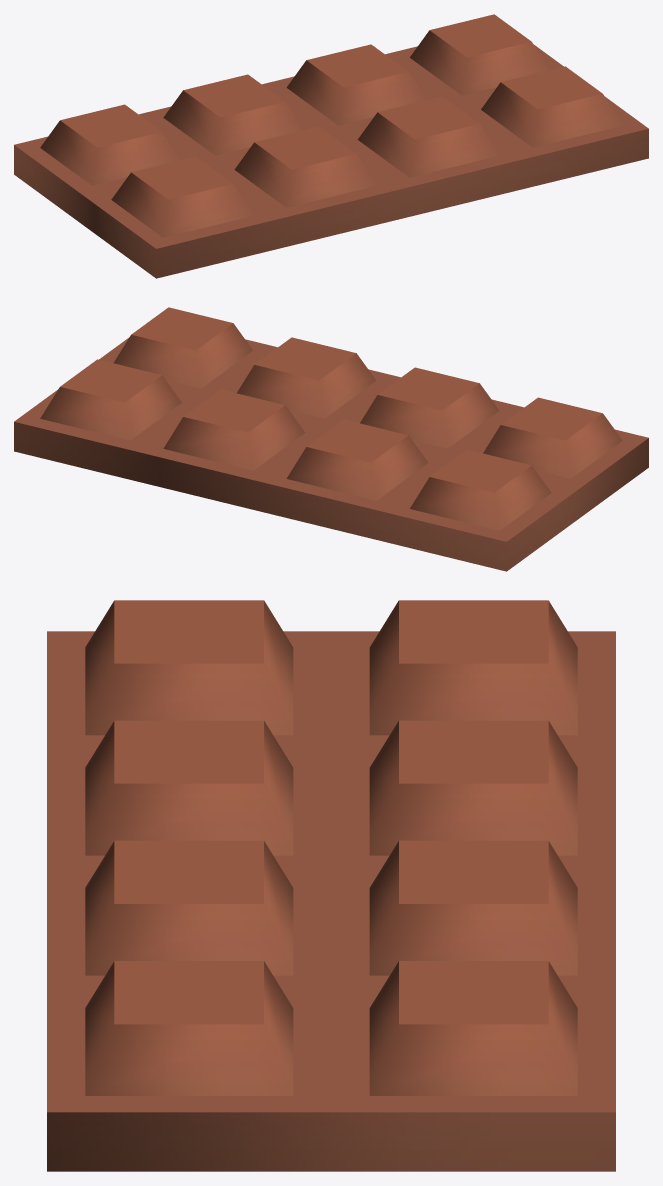
Rendered from chocolate.glb.
The picture shows the model from 3 angles, top to bottom: view 1: azimuth 30°, elevation 25°; view 2: azimuth 150°, elevation 25°; view 3: azimuth 270°, elevation 25°; orthographic projection. The views are drawn at different scales.
Parts seen in each view (by area): view 1: chocolate; view 2: chocolate; view 3: chocolate.
Part boxes in pixels (left/top/right/bottom): chocolate: left=14, top=14, right=648, bottom=278; chocolate: left=14, top=307, right=648, bottom=571; chocolate: left=47, top=600, right=615, bottom=1171.
Size of the model in its own units: 0.2924 by 0.0337 by 0.1462.
Materials: 1 (1 with a texture image).
